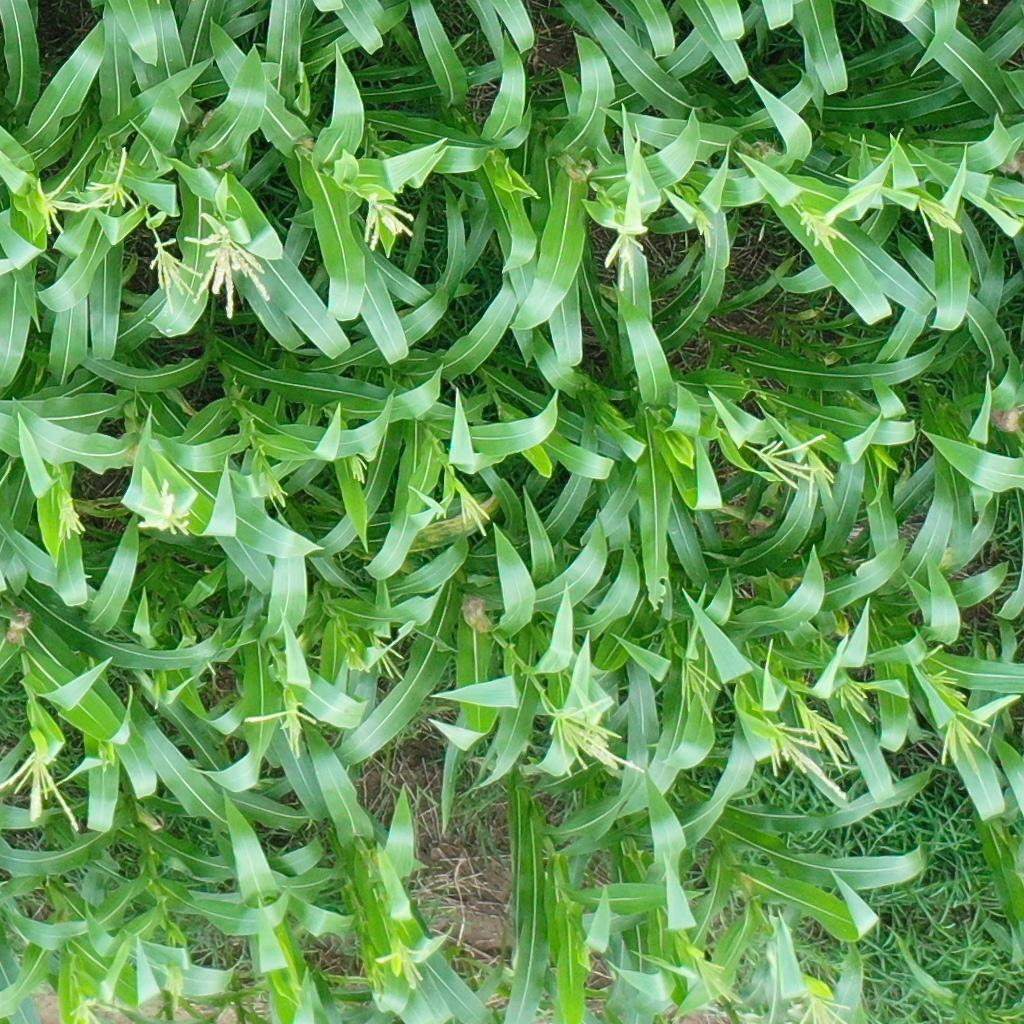Tassel: (532, 692, 650, 782), (1, 733, 90, 837), (187, 223, 274, 321), (749, 427, 836, 492), (148, 233, 213, 318), (242, 694, 321, 762), (794, 691, 851, 777), (80, 143, 142, 222), (748, 713, 821, 777), (129, 478, 193, 541), (355, 191, 421, 252), (25, 173, 88, 236), (909, 190, 970, 255), (343, 632, 408, 690), (934, 709, 991, 775), (680, 652, 726, 726), (687, 950, 745, 1008), (915, 645, 972, 704), (602, 223, 648, 291), (788, 200, 845, 252), (446, 480, 497, 537), (375, 943, 429, 990), (52, 481, 89, 545), (152, 957, 191, 1009), (834, 674, 872, 724), (793, 996, 853, 1024), (690, 201, 718, 256), (342, 444, 373, 490), (67, 991, 104, 1024)
